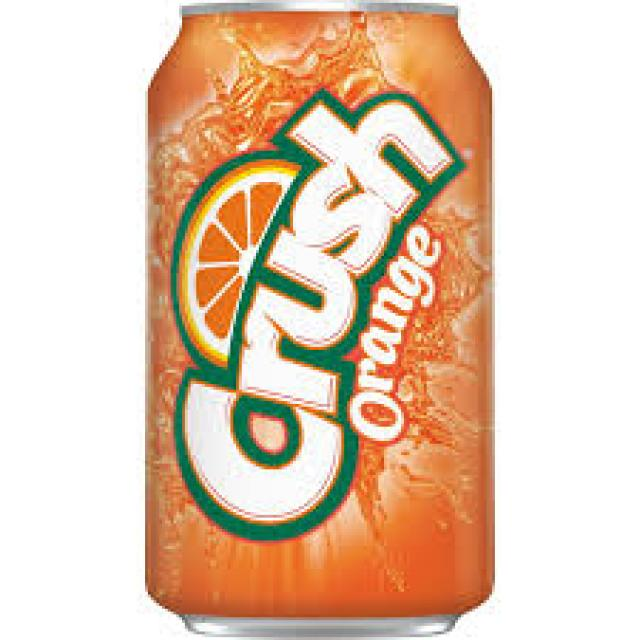Cans: (140, 3, 510, 637)
